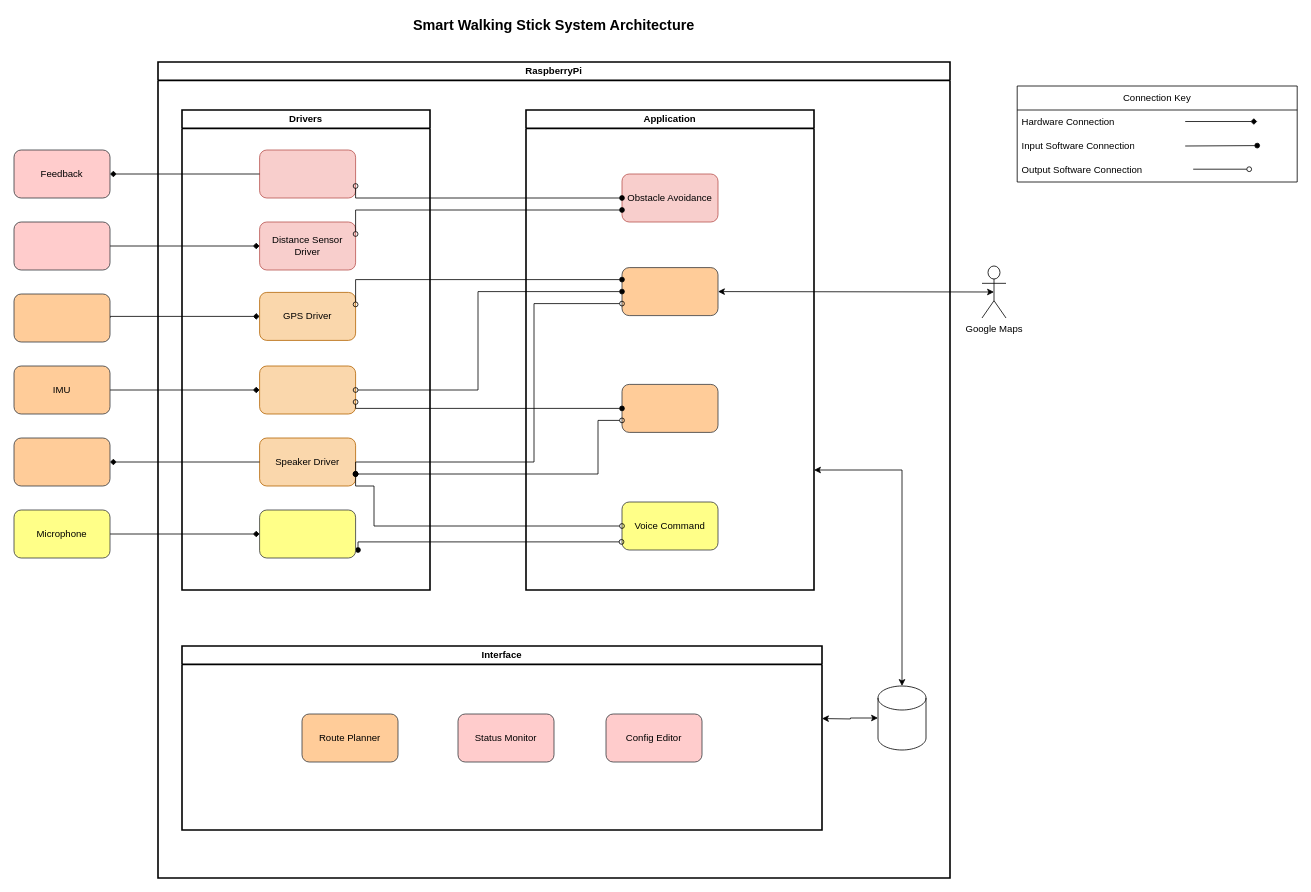
The diagram is 1311 pixels wide and 892 high, and some of its shapes have lost their labels. Each missing label, with the centre of its shape:
"Config" belongs at point 901,717.
"Distance Sensor" belongs at point 61,245.
"Drop Mode" belongs at point 669,408.
"Feedback Driver" belongs at point 307,173.
"GPS" belongs at point 61,317.
"IMU Driver" belongs at point 307,389.
"Microphone Driver" belongs at point 307,533.
"Navigation" belongs at point 669,291.
"Speaker" belongs at point 61,461.
